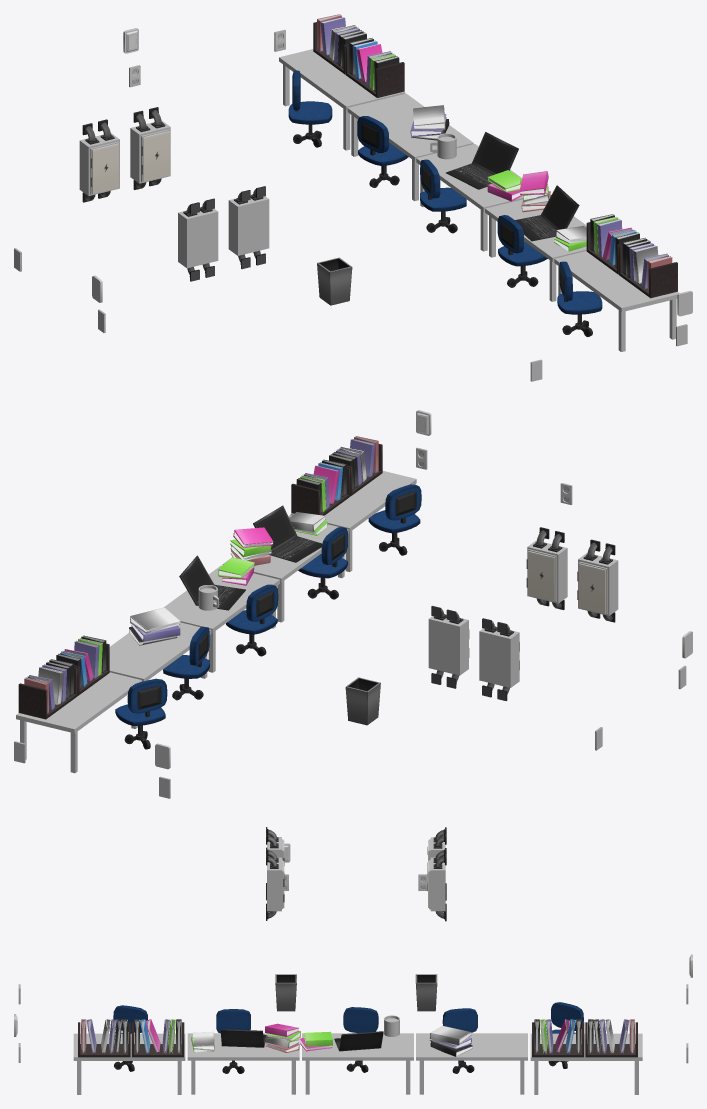
The model's file is Room13Set1.FBX.
3 renders of one model, top to bottom at view 1: azimuth 30°, elevation 25°; view 2: azimuth 150°, elevation 25°; view 3: azimuth 270°, elevation 25°, orthographic. The views are drawn at different scales.
Parts seen in each view (by area): view 1: Box587, Box572, Box601, Box571, switchbox005, switchbox004, Box573, PC005, Box574, Box575, Box570, PC006 (+12 smaller); view 2: Box601, Box572, Box571, Box587, switchbox006, switchbox007, Box602, Box588, Box570, PC006, Box575, Box574 (+11 smaller); view 3: Box572, Box571, Box573, Box587, Box601, Box570, Box574, Box575, switchbox005, switchbox006, PC005, TrashCan002 (+9 smaller).
Boxes of the visible parts, x1=… form: Box587: x1=554, y1=251, x2=679, y2=351; Box572: x1=347, y1=93, x2=473, y2=201; Box601: x1=279, y1=49, x2=405, y2=150; Box571: x1=416, y1=144, x2=523, y2=251; switchbox005: x1=228, y1=194, x2=269, y2=255; switchbox004: x1=178, y1=207, x2=218, y2=268; Box573: x1=485, y1=199, x2=586, y2=301; PC005: x1=446, y1=132, x2=518, y2=189; Box574: x1=357, y1=116, x2=408, y2=187; Box575: x1=497, y1=215, x2=547, y2=287; Box570: x1=420, y1=159, x2=466, y2=233; PC006: x1=515, y1=185, x2=579, y2=241; Box601: x1=16, y1=672, x2=141, y2=773; Box572: x1=109, y1=622, x2=211, y2=681; Box571: x1=164, y1=565, x2=279, y2=672; Box587: x1=290, y1=471, x2=416, y2=571; switchbox006: x1=428, y1=614, x2=468, y2=675; switchbox007: x1=479, y1=626, x2=519, y2=687; Box602: x1=115, y1=678, x2=167, y2=749; Box588: x1=368, y1=484, x2=421, y2=555; Box570: x1=226, y1=584, x2=278, y2=656; PC006: x1=253, y1=505, x2=322, y2=562; Box575: x1=298, y1=527, x2=347, y2=599; Box574: x1=163, y1=626, x2=209, y2=700; Box572: x1=416, y1=1033, x2=527, y2=1094; Box571: x1=302, y1=1033, x2=413, y2=1094; Box573: x1=187, y1=1033, x2=299, y2=1094; Box587: x1=73, y1=1033, x2=185, y2=1094; Box601: x1=530, y1=1033, x2=642, y2=1094; Box570: x1=343, y1=1007, x2=378, y2=1072; Box574: x1=442, y1=1008, x2=477, y2=1073; Box575: x1=216, y1=1009, x2=250, y2=1073; switchbox005: x1=267, y1=857, x2=283, y2=911; switchbox006: x1=429, y1=857, x2=445, y2=911; PC005: x1=334, y1=1031, x2=383, y2=1051; TrashCan002: x1=415, y1=974, x2=437, y2=1011.
Bounding box in the file's own units: 77.44 × 22.83 × 120.
